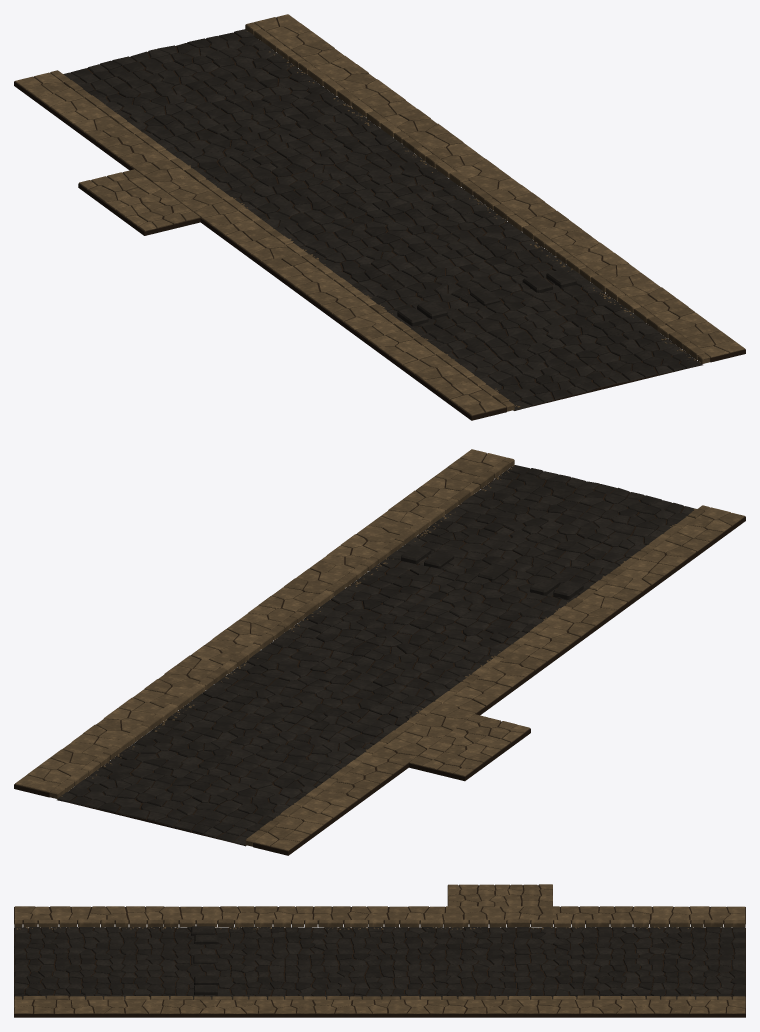
Rendered from paving.glb.
The picture shows the model from 3 angles, top to bottom: view 1: azimuth 30°, elevation 25°; view 2: azimuth 150°, elevation 25°; view 3: azimuth 270°, elevation 25°; orthographic projection. The views are drawn at different scales.
Visible parts, largest first — view 1: Basaltpflaster, Gehwegplatten, Bordsteine, Fugenbett, Trittsteine; view 2: Basaltpflaster, Gehwegplatten, Bordsteine, Fugenbett, Trittsteine; view 3: Basaltpflaster, Gehwegplatten, Fugenbett, Bordsteine, Trittsteine, Kiesel_am_Rinnstein.
Boxes of the visible parts, <box> form: Basaltpflaster: <box>63,29,701,410</box>; Gehwegplatten: <box>15,14,744,415</box>; Bordsteine: <box>50,22,710,411</box>; Fugenbett: <box>14,17,745,420</box>; Trittsteine: <box>397,269,576,326</box>; Basaltpflaster: <box>57,465,695,845</box>; Gehwegplatten: <box>15,449,744,850</box>; Bordsteine: <box>49,457,709,846</box>; Fugenbett: <box>14,453,745,855</box>; Trittsteine: <box>401,545,583,599</box>; Basaltpflaster: <box>14,927,745,1000</box>; Gehwegplatten: <box>14,884,745,1013</box>; Fugenbett: <box>14,885,745,1017</box>; Bordsteine: <box>14,919,745,1000</box>; Trittsteine: <box>191,926,218,995</box>; Kiesel_am_Rinnstein: <box>16,926,702,999</box>.
Size of the model in its own units: 10.84 by 0.2261 by 26.
Materials: 3 (3 with a texture image).
